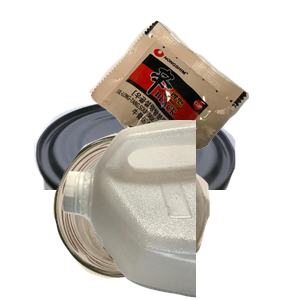glass: (50, 131, 252, 300)
metal: (16, 96, 244, 276)
plastic: (60, 120, 300, 300)
trash: (86, 18, 300, 194)
